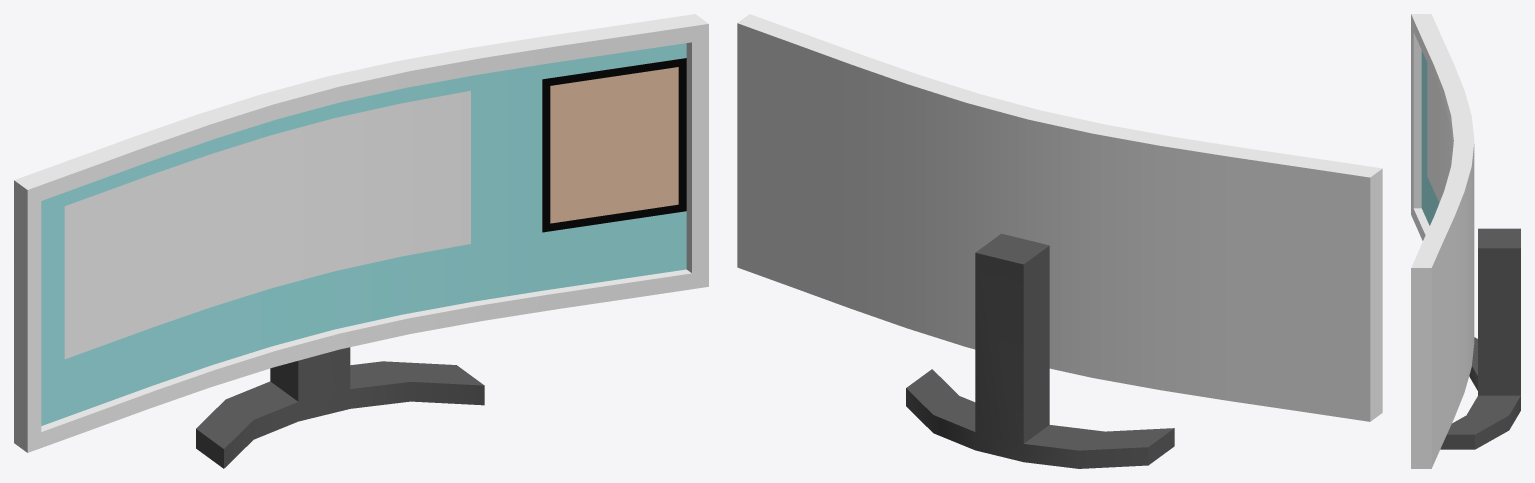
File: Monitor.fbx
The picture shows the model from 3 angles, left to right: view 1: azimuth 30°, elevation 25°; view 2: azimuth 150°, elevation 25°; view 3: azimuth 270°, elevation 25°; orthographic projection. The views are drawn at different scales.
Visible parts, largest first — view 1: Monitor; view 2: Monitor; view 3: Monitor.
Boxes of the visible parts, x1,y1,x2,y2 form: Monitor: [14, 14, 708, 468]; Monitor: [737, 14, 1382, 468]; Monitor: [1411, 14, 1520, 468].
Size of the model in its own units: 149 by 71.22 by 27.25.
